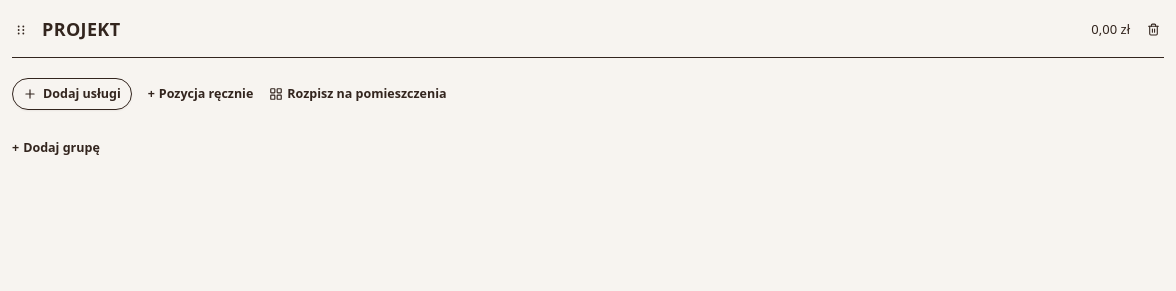
SectionBlock — „Dodaj grupę" › daje trzy drogi, nie jedną
Step 1. Click the button "+ Dodaj grupę" → (56, 148), box [12,139,100,158]
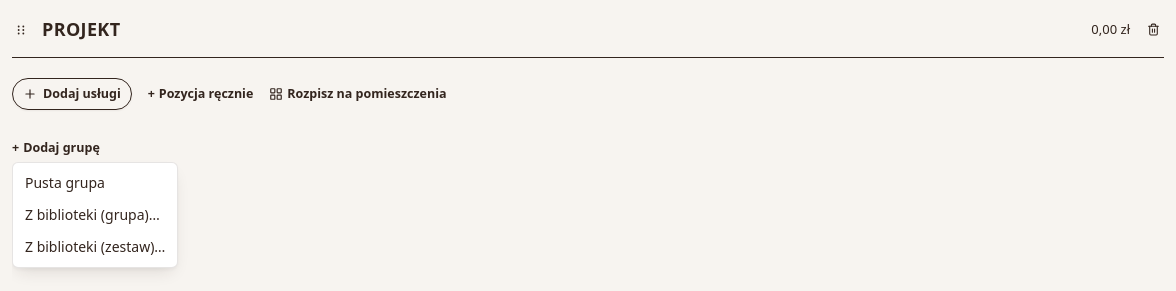
Check: the menu item "Pusta grupa" is shown, box [25,173,105,192]
Check: the menu item "Z biblioteki (grupa)…" is shown, box [25,205,160,224]
Check: the menu item "Z biblioteki (zestaw)…" is shown, box [25,237,165,256]
